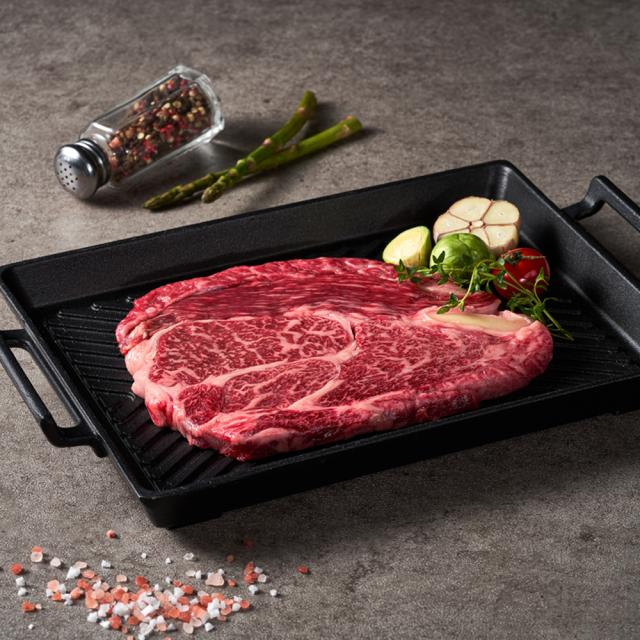beef: (149, 292, 400, 408)
